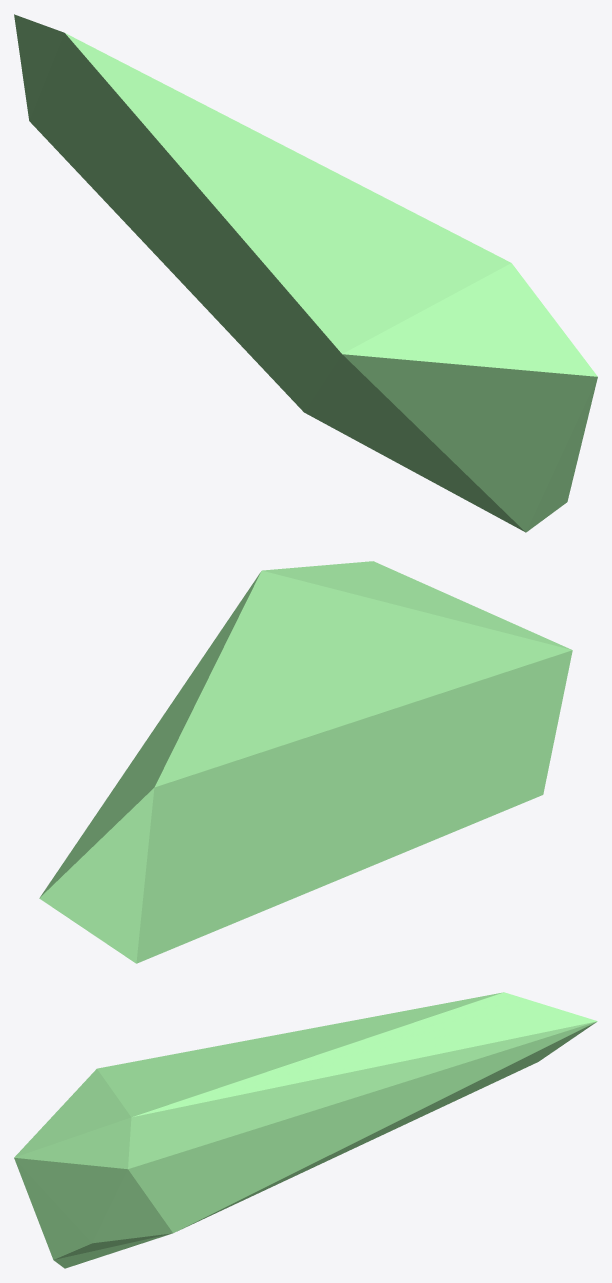
Rendered from UMIRobot_UMIRobot_link_4_convex_coll_12.dae.
The picture shows the model from 3 angles, top to bottom: view 1: azimuth 30°, elevation 25°; view 2: azimuth 150°, elevation 25°; view 3: azimuth 270°, elevation 25°; orthographic projection. The views are drawn at different scales.
Visible parts, largest first — view 1: node; view 2: node; view 3: node.
Part boxes in pixels (x1,y1,x2,y2): node: (14,14,597,532); node: (39,561,572,963); node: (14,992,597,1268).
Size of the model in its own units: 0.0136 by 0.0182 by 0.0431.
